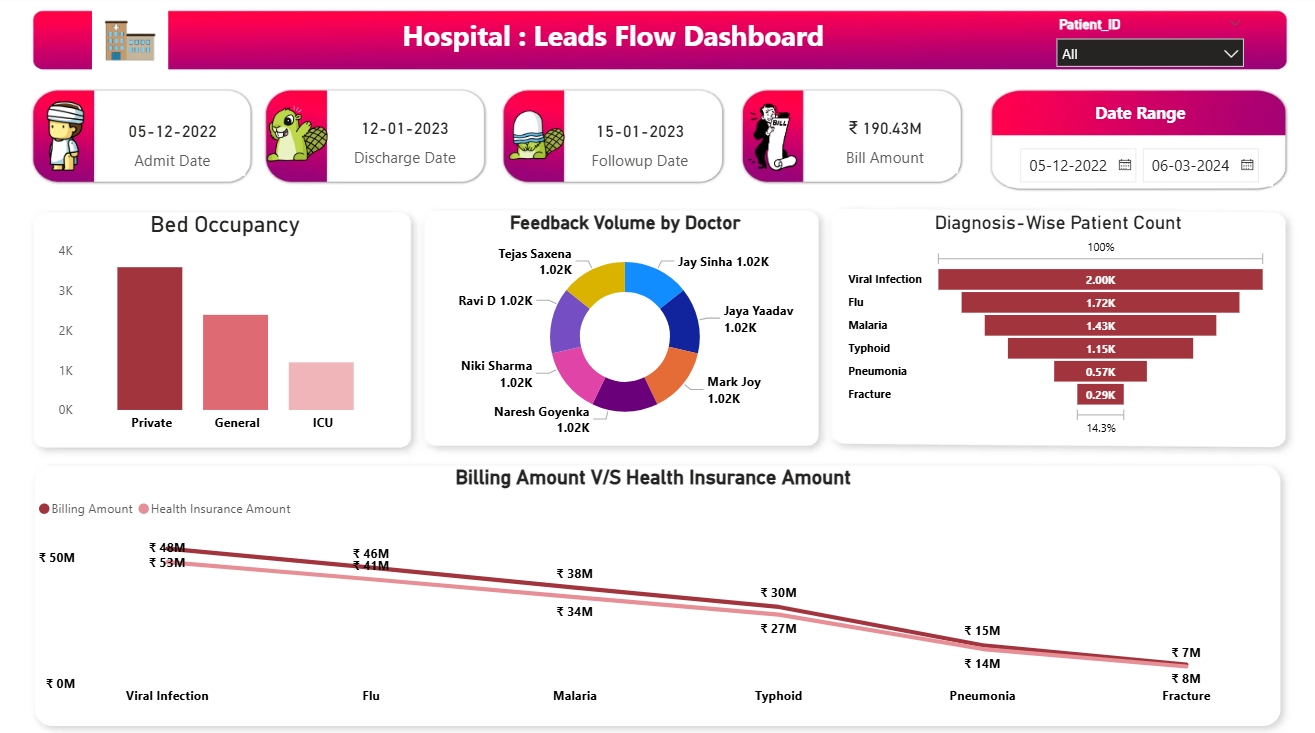

The dashboard page shown, as its layout file describes it:
{"tool":"powerbi","page":{"name":"Page 1","canvas":[1280,720],"ordinal":0},"visuals":[{"type":"image","box":[86.9,0,83.2,88.1],"z":0},{"type":"image","box":[26.5,97.7,79.6,77.2],"z":1000},{"type":"image","box":[246.1,94.1,86.9,78.4],"z":2000},{"type":"image","box":[482.6,97.7,76,74.8],"z":3000},{"type":"image","box":[710.6,100.1,76,74.8],"z":4000},{"type":"textbox","box":[386.1,15.7,439.1,56.7],"z":5000},{"type":"slicer","fields":{"Values":["Sheet1.Patient_ID"]},"box":[1012.2,15.7,201.5,56.7],"z":6000},{"type":"card","fields":{"Values":["Min(Sheet1.Admit_Date)"]},"box":[98.9,109.8,141.2,65.1],"z":6001},{"type":"card","fields":{"Values":["Min(Sheet1.Discharge_Date)"]},"box":[323.3,107.4,141.2,65.1],"z":6002},{"type":"card","fields":{"Values":["Min(Sheet1.Followup Date)"]},"box":[550.1,109.8,141.2,65.1],"z":6003},{"type":"card","fields":{"Values":["Sum(Sheet1.Billing Amount)"]},"box":[786.6,107.4,141.2,65.1],"z":6004},{"type":"slicer","fields":{"Values":["Sheet1.Admit_Date"]},"box":[974.8,137.5,257,47.1],"z":6005},{"type":"textbox","box":[1027.9,97.7,150.8,31.4],"z":6006},{"type":"columnChart","title":"Bed Occupancy","fields":{"Category":["Sheet1.Bed_Occupancy"],"Y":["CountNonNull(Sheet1.Bed_Occupancy)"]},"box":[54.3,208.7,331.8,222],"z":6007},{"type":"donutChart","title":"Feedback Volume by Doctor","fields":{"Y":["CountNonNull(Sheet1.Doctor)"],"Category":["Sheet1.Doctor"]},"box":[440.4,208.7,331.8,222],"z":6008},{"type":"funnel","title":"Diagnosis-Wise Patient Count","fields":{"Category":["Sheet1.Diagnosis"],"Y":["CountNonNull(Sheet1.Diagnosis)"]},"box":[816.8,208.7,415,222],"z":6009},{"type":"lineChart","title":"Billing Amount V/S Health Insurance Amount","fields":{"Y":["Sum(Sheet1.Billing Amount)","Sum(Sheet1.Health Insurance Amount)"],"Category":["Sheet1.Diagnosis"]},"box":[35,454.8,1196.8,240.1],"z":6010}]}

Visuals, with their boxes in screenshot pixels (x1, y1, x2, y2), scaled from the page's 1280x720 canvas onto the 1315x733 screenshot:
image: detection(89, 0, 175, 90)
image: detection(27, 99, 109, 178)
image: detection(253, 96, 342, 176)
image: detection(496, 99, 574, 176)
image: detection(730, 102, 808, 178)
textbox: detection(397, 16, 848, 74)
slicer - Sheet1.Patient_ID: detection(1040, 16, 1247, 74)
card - Min(Sheet1.Admit_Date): detection(102, 112, 247, 178)
card - Min(Sheet1.Discharge_Date): detection(332, 109, 477, 176)
card - Min(Sheet1.Followup Date): detection(565, 112, 710, 178)
card - Sum(Sheet1.Billing Amount): detection(808, 109, 953, 176)
slicer - Sheet1.Admit_Date: detection(1001, 140, 1265, 188)
textbox: detection(1056, 99, 1211, 131)
"Bed Occupancy" columnChart: detection(56, 212, 397, 438)
"Feedback Volume by Doctor" donutChart: detection(452, 212, 793, 438)
"Diagnosis-Wise Patient Count" funnel: detection(839, 212, 1265, 438)
"Billing Amount V/S Health Insurance Amount" lineChart: detection(36, 463, 1265, 707)
